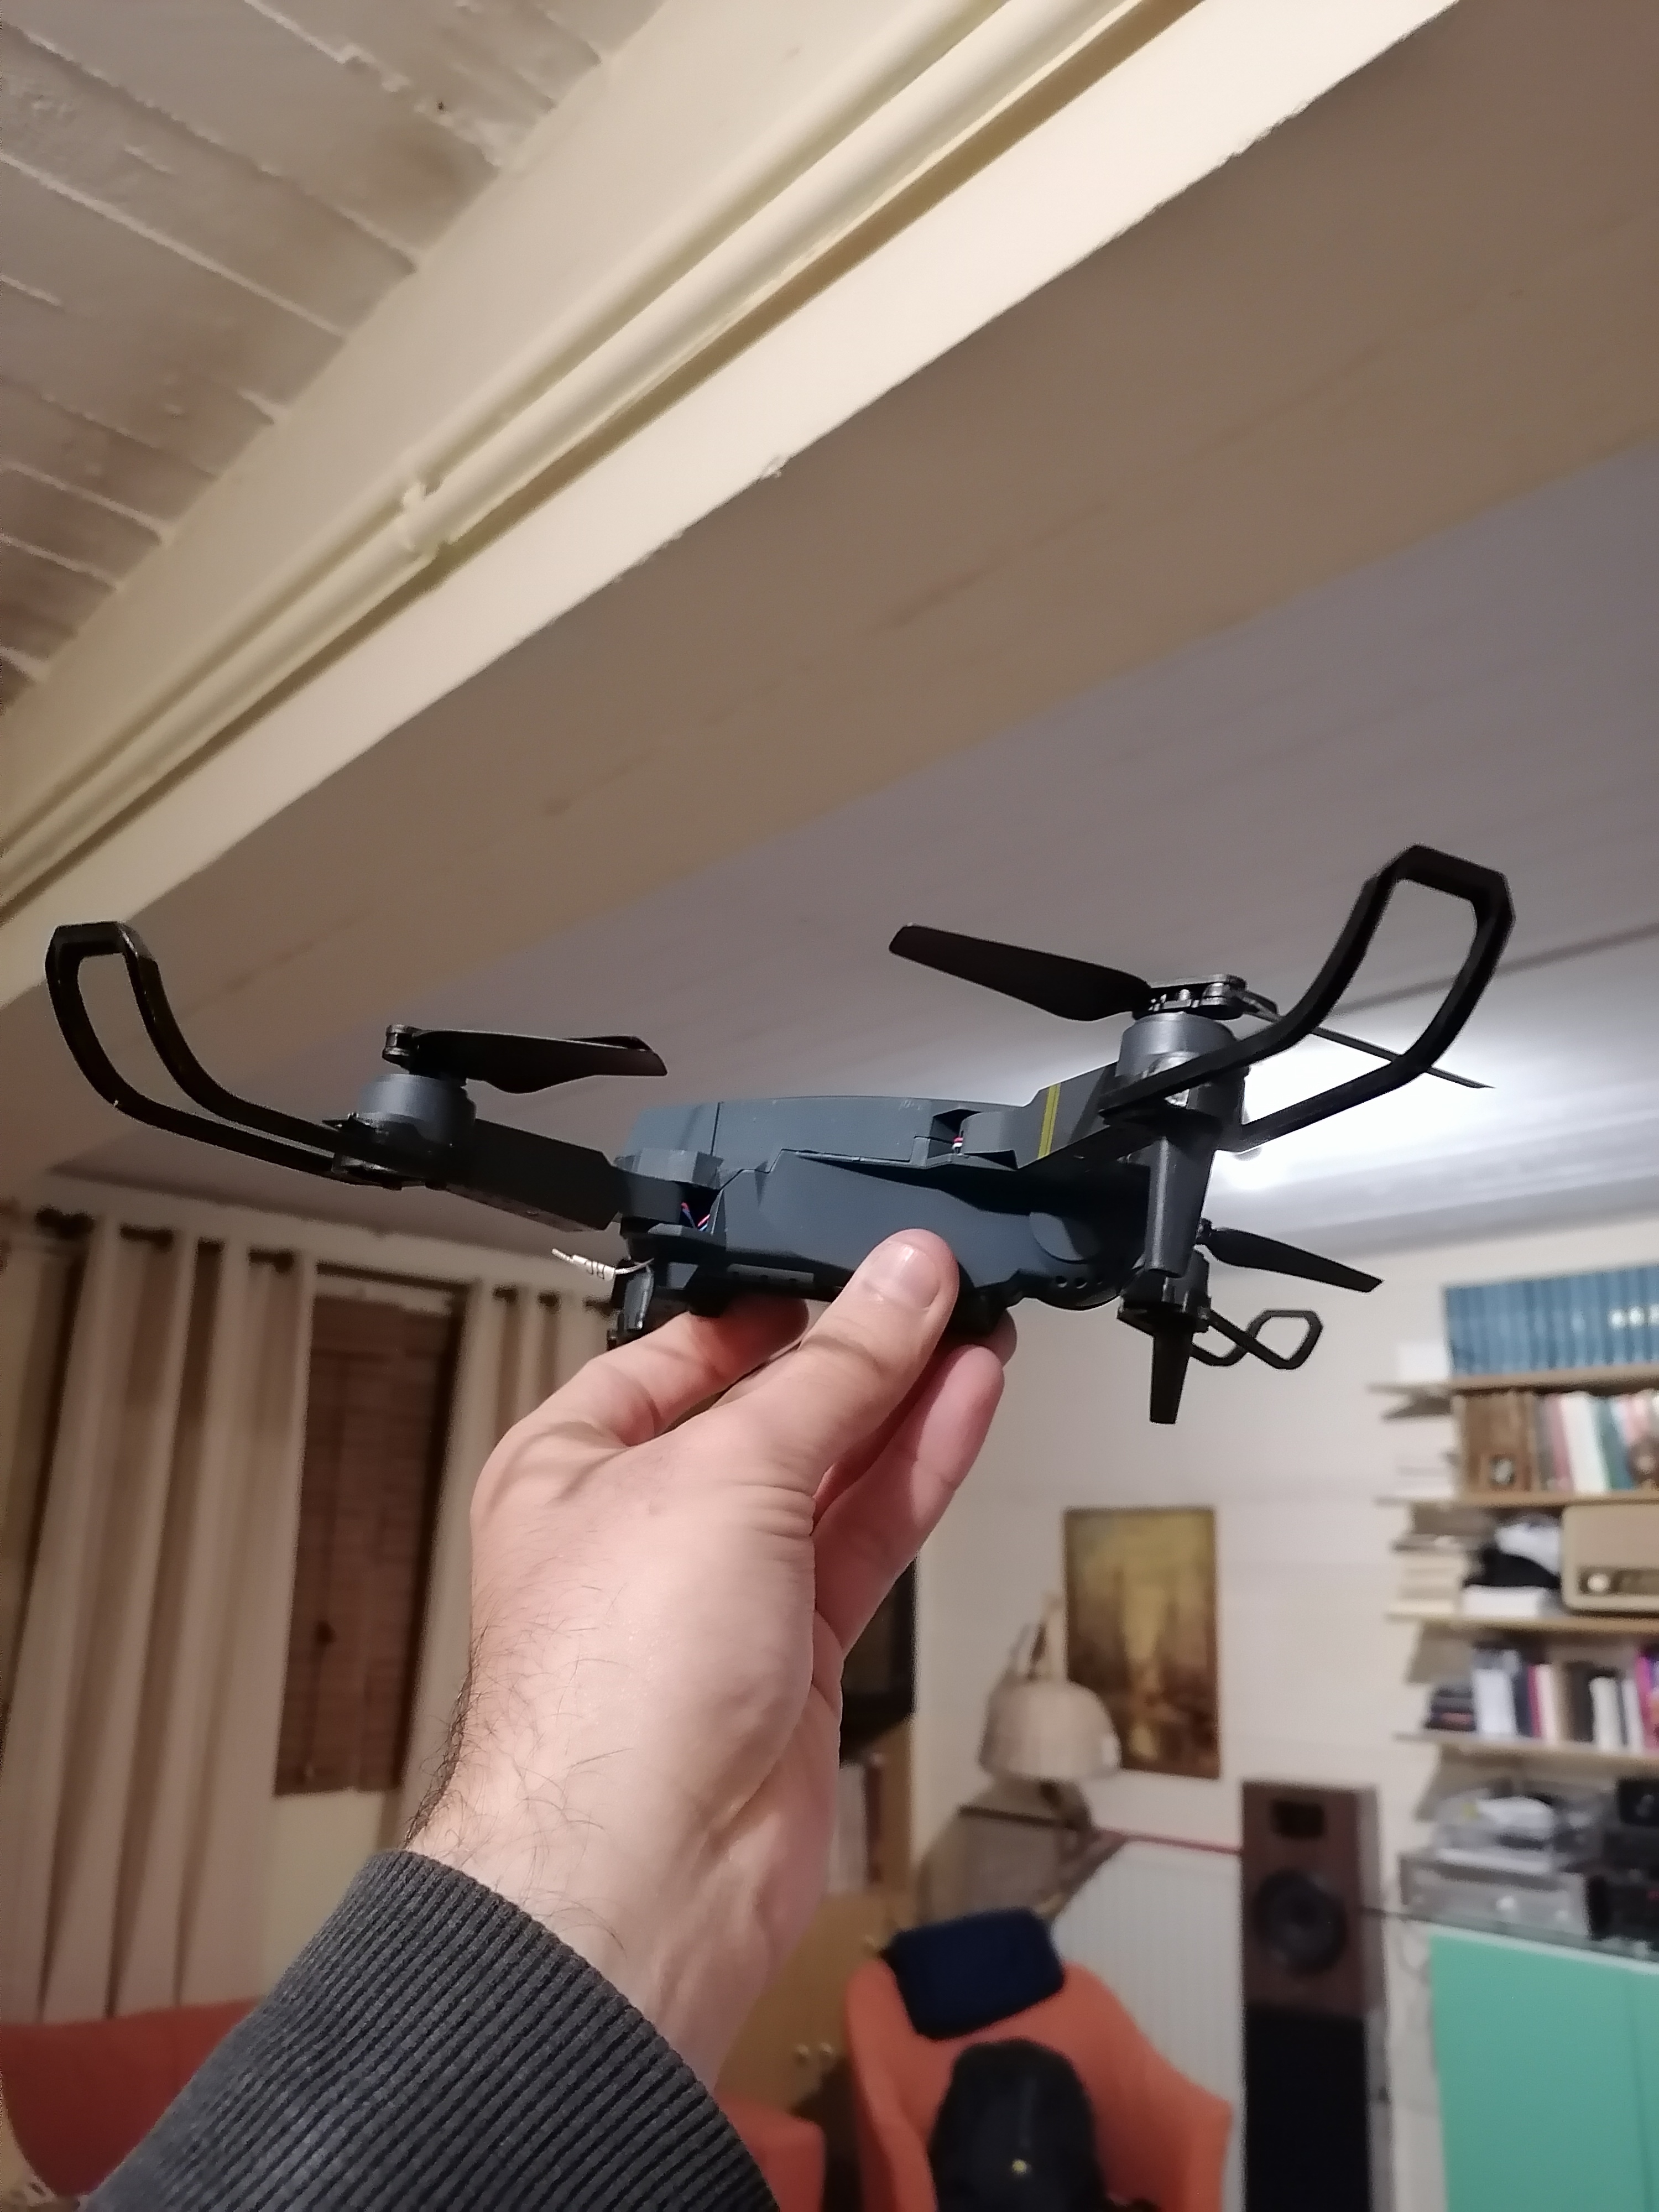drone: (19, 888, 1553, 1418)
